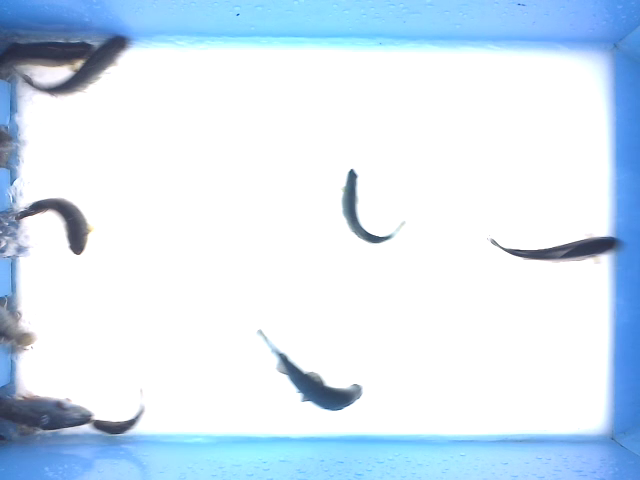fish: (251, 324, 365, 414), (11, 33, 130, 103), (8, 195, 96, 258), (339, 166, 407, 245), (487, 231, 631, 264), (1, 395, 96, 431), (86, 403, 147, 437)
